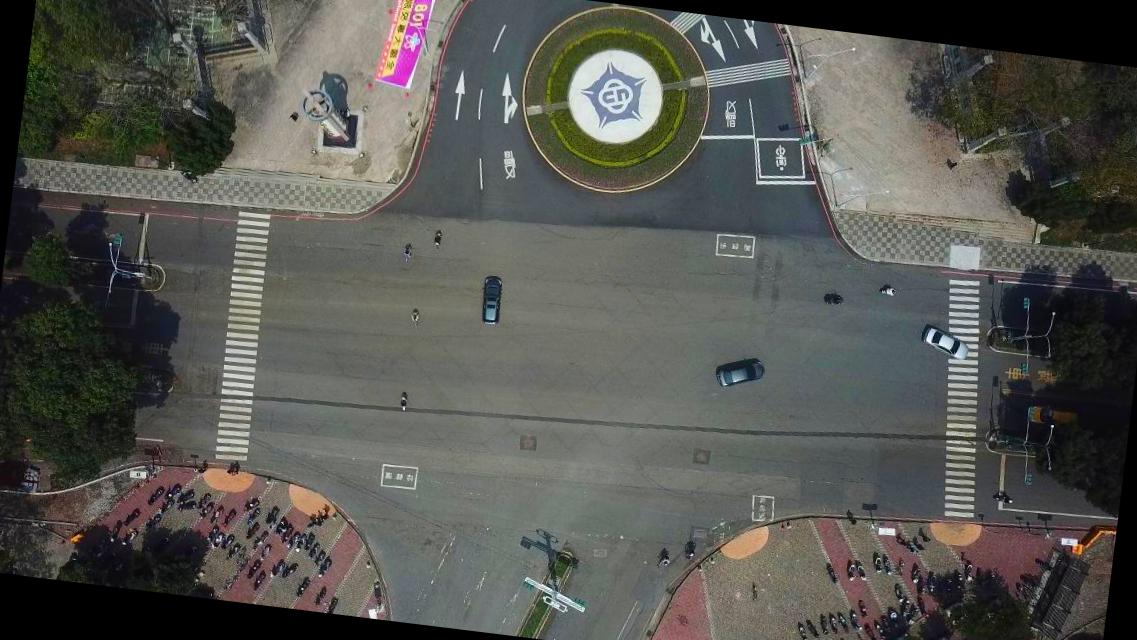vehicle: (711, 353, 766, 393), (919, 324, 971, 362), (479, 272, 505, 326), (1026, 406, 1080, 431)
